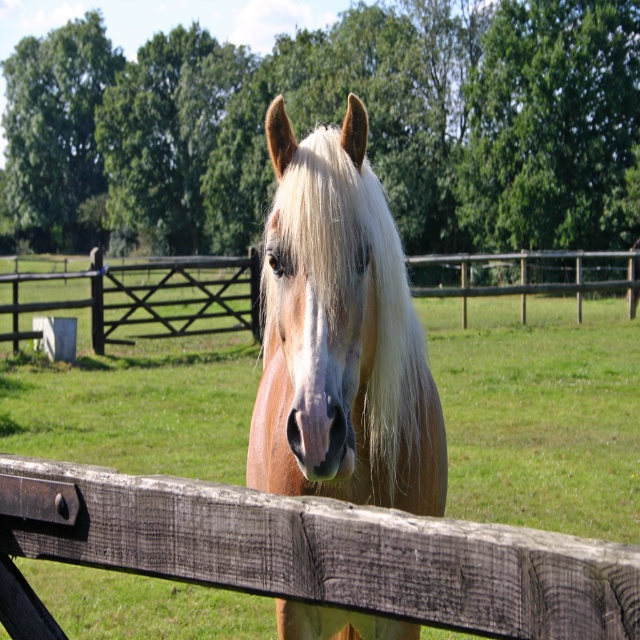Horse: (246, 92, 448, 640)
